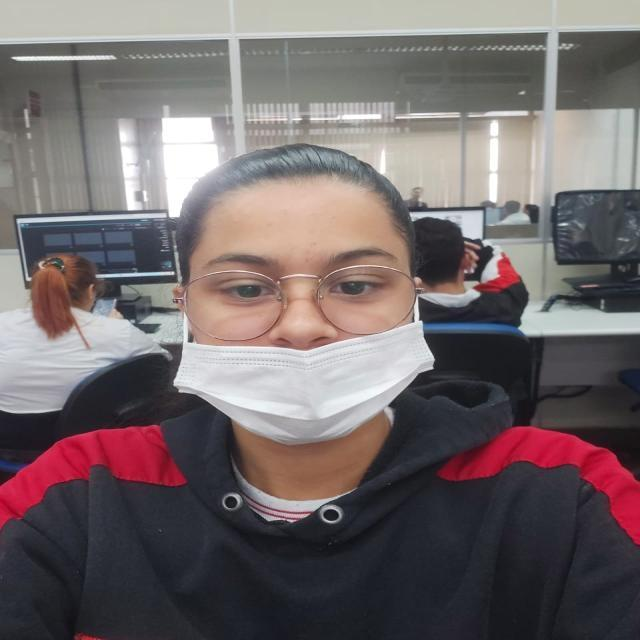hairnet: (185, 191, 440, 438)
